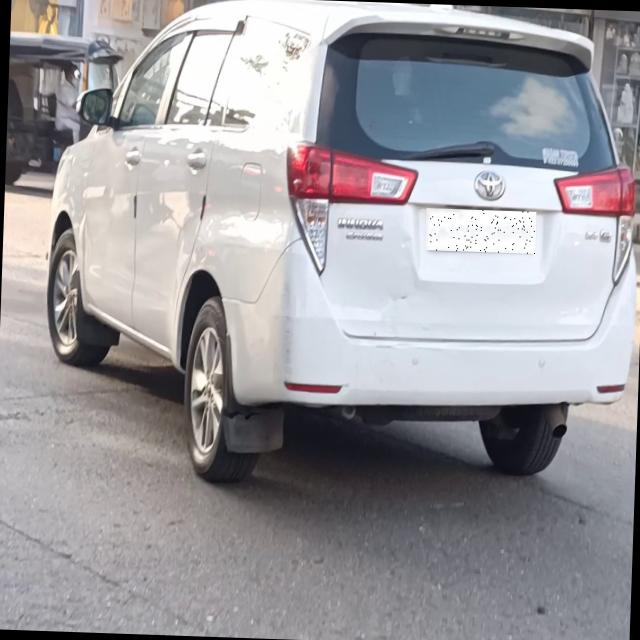Plate: (426, 209, 537, 255)
